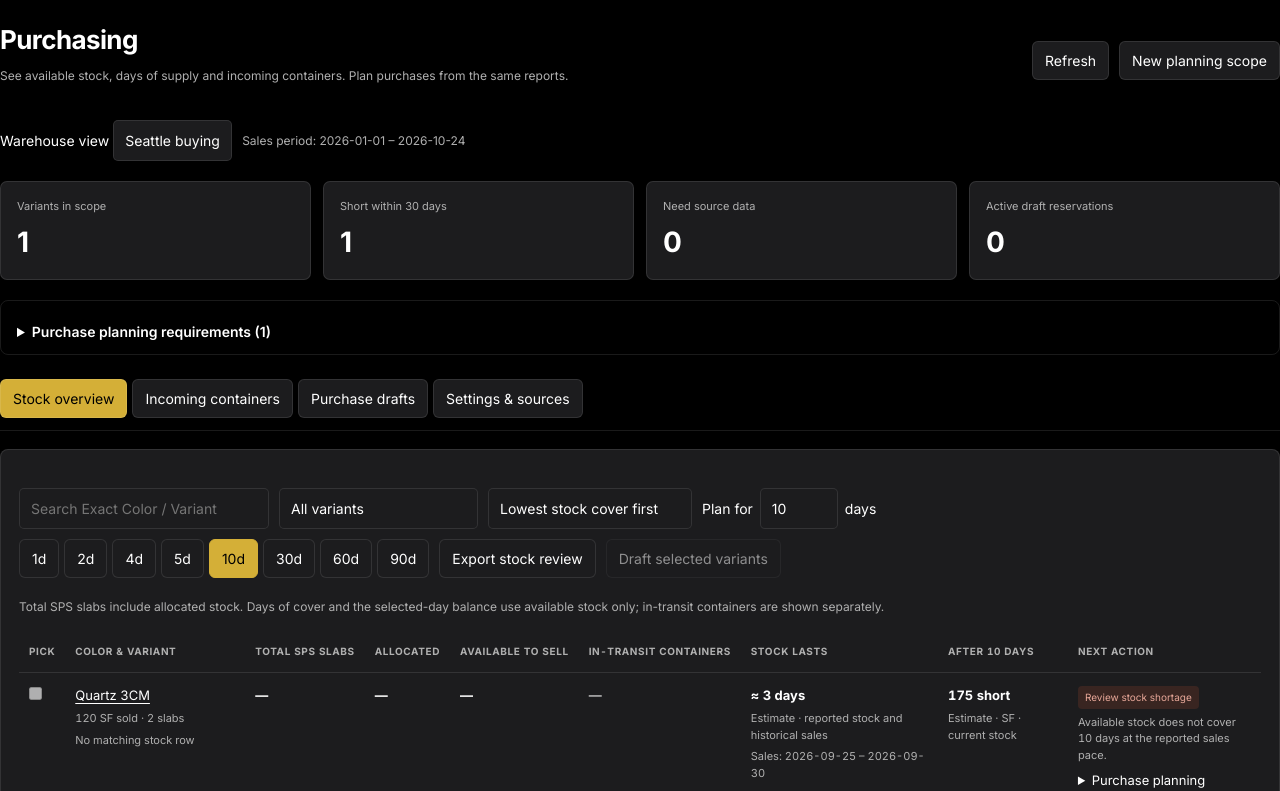
Scenario: estimated days of stock › renders numeric estimated cover and custom balances while keeping draft selection disabled
This screenshot has width=1280, height=791.
Expected: the text "≈ 3 days" is shown, [751,686,805,702]
Expected: the text "Sales: 2026-09-25 – 2026-09-30" is shown, [751,748,928,781]
Click the button "2d" at (86, 558), box [64,538,107,578]
(page scrolled)
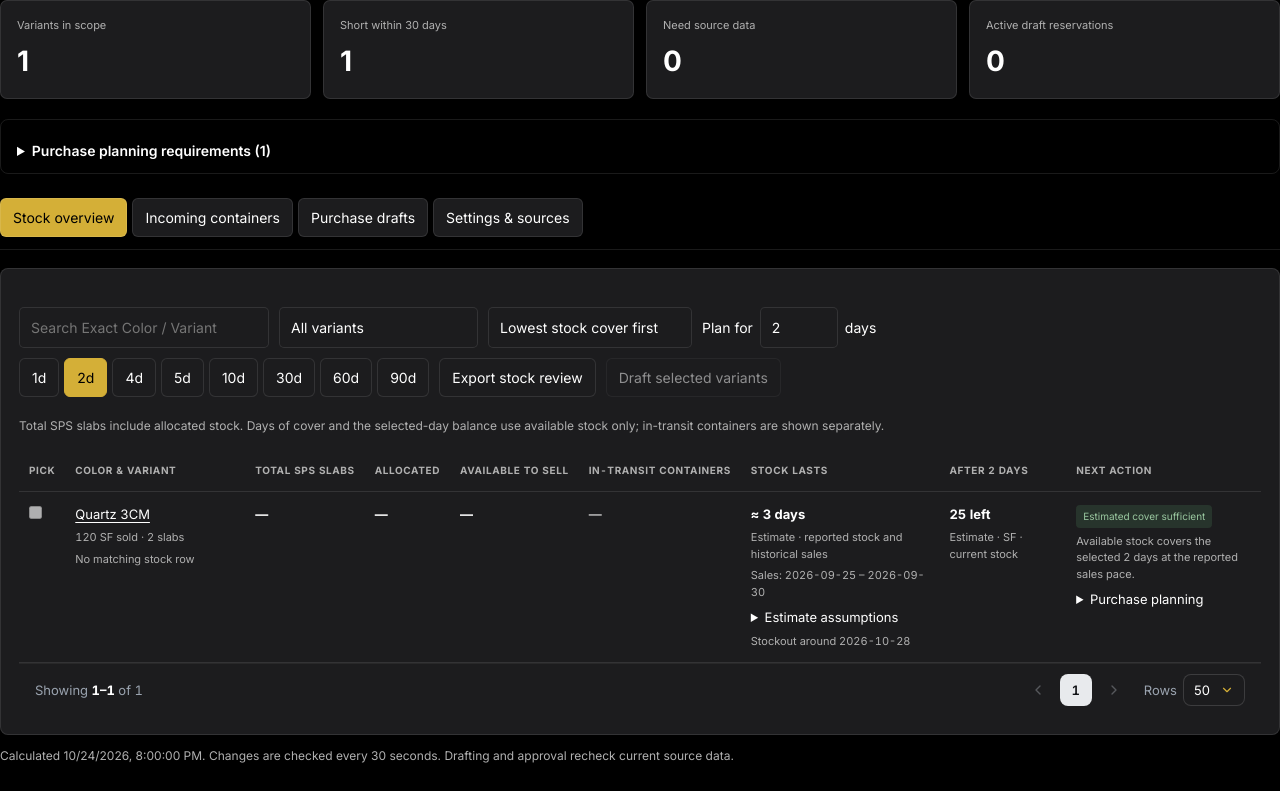
Expected: the text "25 left" is shown, [949,506,990,522]
Click the heading "Estimate assumptions" at (832, 617), box [765,609,898,625]
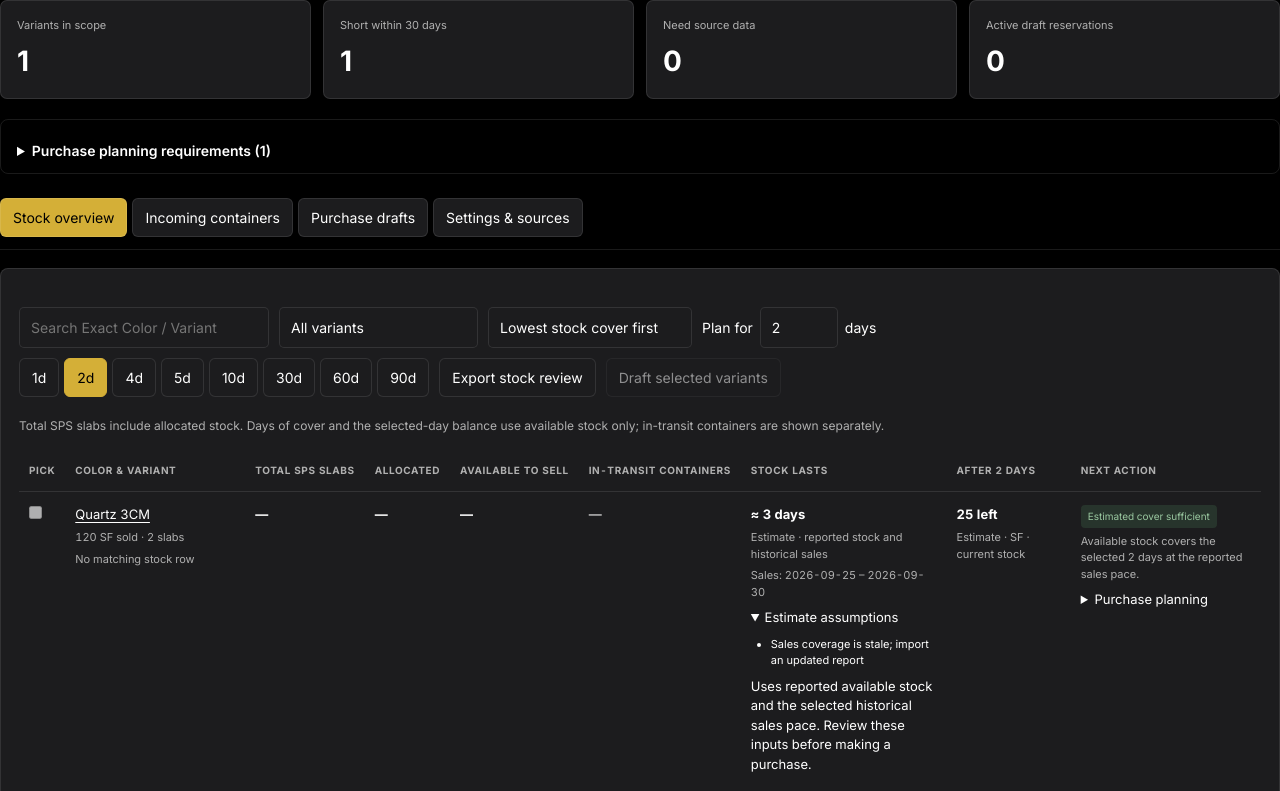
Expected: the checkbox named "Select Quartz 3CM" is disabled, [29,506,42,518]
Expected: the list item "Sales coverage is stale; import an updated report" is shown, [771,636,937,668]
